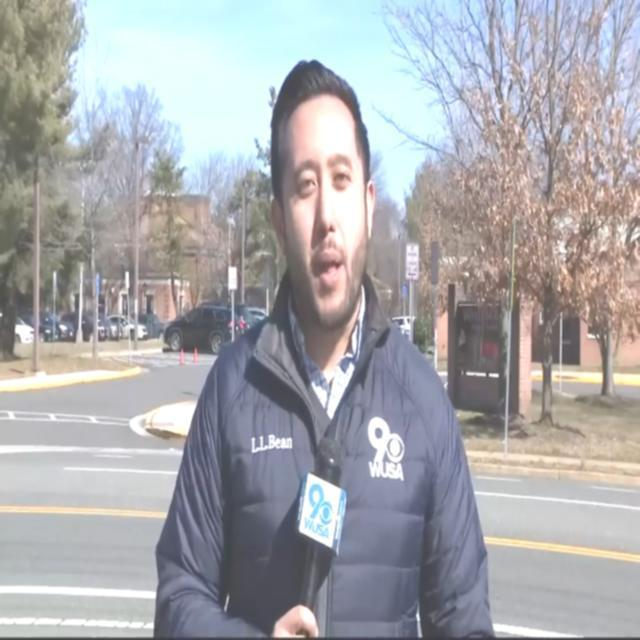non-fight: (155, 14, 547, 640)
